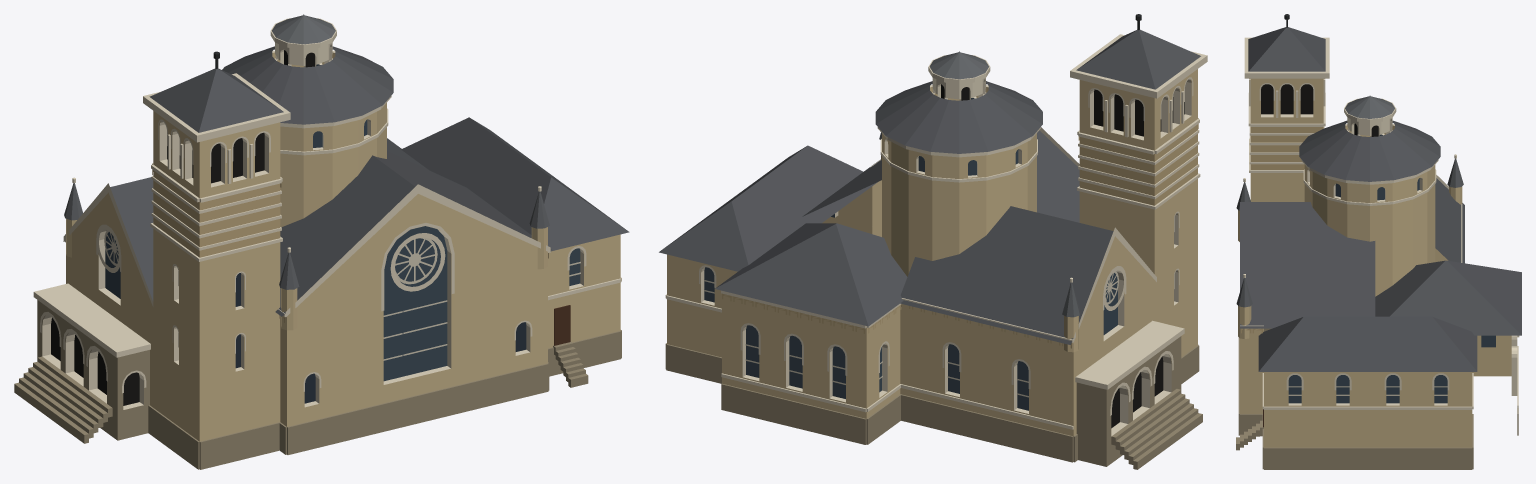
The model's file is temple-bnai-israel-1913.glb.
3 views of the same model, side by side, from view 1: azimuth 30°, elevation 25°; view 2: azimuth 150°, elevation 25°; view 3: azimuth 270°, elevation 25° (orthographic). The views are drawn at different scales.
Visible parts, largest first — view 1: temple_brick, temple_slate, temple_trim, temple_base, temple_stain, temple_brick2, temple_shadow, temple_slate2, temple_lead, temple_glass, temple_door; view 2: temple_brick, temple_slate, temple_trim, temple_base, temple_brick2, temple_stain, temple_shadow, temple_slate2, temple_lead; view 3: temple_slate, temple_brick, temple_trim, temple_base, temple_brick2, temple_stain, temple_slate2, temple_shadow.
Part boxes in pixels (x1,y1,x2,y2): temple_brick: (66, 52, 620, 441); temple_slate: (110, 46, 629, 316); temple_trim: (33, 18, 621, 409); temple_base: (14, 300, 621, 469); temple_stain: (105, 64, 580, 381); temple_brick2: (152, 169, 548, 322); temple_shadow: (51, 50, 314, 405); temple_slate2: (64, 14, 549, 289); temple_lead: (104, 230, 580, 360); temple_glass: (235, 273, 526, 403); temple_door: (554, 305, 570, 345); temple_brick: (667, 69, 1197, 436); temple_slate: (659, 29, 1200, 344); temple_trim: (665, 34, 1207, 436); temple_base: (665, 336, 1202, 469); temple_brick2: (722, 124, 1198, 348); temple_stain: (704, 98, 1117, 410); temple_shadow: (941, 84, 1184, 428); temple_slate2: (879, 51, 1080, 317); temple_lead: (704, 271, 1118, 397); temple_slate: (1240, 27, 1521, 371); temple_brick: (1238, 78, 1511, 447); temple_trim: (1240, 37, 1519, 409); temple_base: (1236, 328, 1518, 469); temple_brick2: (1241, 127, 1323, 333); temple_stain: (1288, 134, 1495, 403); temple_slate2: (1236, 95, 1463, 307); temple_shadow: (1261, 84, 1378, 136).
Bounding box in the file's own units: 33.82 × 25.5 × 21.55.
